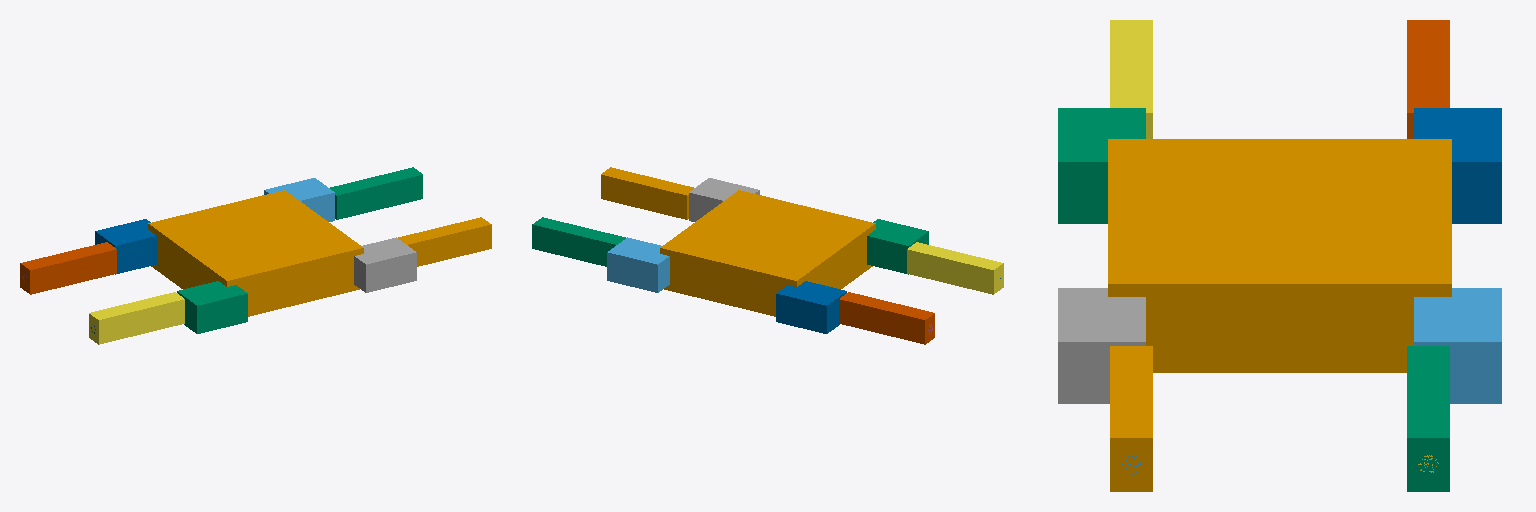
--- What the picture shows (computed from the rendered views, not written in the file) ---
Views: 3 orthographic renders of the robot side by side, from view 1: azimuth 30°, elevation 25°; view 2: azimuth 150°, elevation 25°; view 3: azimuth 270°, elevation 25°.
Robot: ASTRo — 13 links, 12 joints (12 revolute); root link body; default pose: all joints at 0.
Visible links, largest first — view 1: body, upper1, upper3, upper0, hip3, upper2, hip2, hip1, hip0; view 2: body, upper3, upper1, upper2, hip1, upper0, hip0, hip3, hip2; view 3: body, hip0, hip2, hip1, hip3, upper0, upper2, upper1, upper3.
Boxes of the visible links, bbox=[...] form: body: bbox=[148, 190, 363, 316]; upper1: bbox=[20, 242, 116, 294]; upper3: bbox=[89, 292, 184, 344]; upper0: bbox=[330, 167, 422, 219]; hip3: bbox=[177, 281, 247, 333]; upper2: bbox=[398, 217, 491, 266]; hip2: bbox=[354, 237, 416, 292]; hip1: bbox=[95, 219, 156, 274]; hip0: bbox=[264, 178, 334, 221]; body: bbox=[660, 190, 875, 316]; upper3: bbox=[907, 242, 1003, 294]; upper1: bbox=[839, 292, 934, 344]; upper2: bbox=[601, 167, 693, 219]; hip1: bbox=[776, 281, 846, 333]; upper0: bbox=[532, 217, 625, 266]; hip0: bbox=[607, 237, 669, 292]; hip3: bbox=[867, 219, 928, 274]; hip2: bbox=[689, 178, 759, 221]; body: bbox=[1108, 139, 1451, 372]; hip0: bbox=[1414, 288, 1501, 403]; hip2: bbox=[1058, 288, 1145, 403]; hip1: bbox=[1414, 108, 1501, 223]; hip3: bbox=[1058, 108, 1145, 223]; upper0: bbox=[1407, 346, 1449, 491]; upper2: bbox=[1110, 346, 1152, 491]; upper1: bbox=[1407, 20, 1449, 138]; upper3: bbox=[1110, 20, 1152, 138].
Size in the robot's own frame: 1.01 by 0.4524 by 0.1 metres.
Geometry: primitives only (box / cylinder / sphere), no mesh files.

The robot description file, URDF, robot "ASTRo":
<?xml version="1.0" ?>
<!-- =================================================================================== -->
<!-- |    This document was autogenerated by xacro from src/simulator/ASTRo_urdf/ASTRo_xacro/ASTRo.urdf.xacro | -->
<!-- |    EDITING THIS FILE BY HAND IS NOT RECOMMENDED                                 | -->
<!-- =================================================================================== -->
<!-- 
MIT License (modified)
Copyright (c) 2018 Ghost Robotics
Authors:
Avik De <[email redacted]>
Tom Jacobs <[email redacted]>
Vasileios Vasilopoulos <[email redacted]>
Permission is hereby granted, free of charge, to any person obtaining a copy
of this **file** (the "Software"), to deal
in the Software without restriction, including without limitation the rights
to use, copy, modify, merge, publish, distribute, sublicense, and/or sell
copies of the Software, and to permit persons to whom the Software is
furnished to do so, subject to the following conditions:
The above copyright notice and this permission notice shall be included in all
copies or substantial portions of the Software.
THE SOFTWARE IS PROVIDED "AS IS", WITHOUT WARRANTY OF ANY KIND, EXPRESS OR
IMPLIED, INCLUDING BUT NOT LIMITED TO THE WARRANTIES OF MERCHANTABILITY,
FITNESS FOR A PARTICULAR PURPOSE AND NONINFRINGEMENT. IN NO EVENT SHALL THE
AUTHORS OR COPYRIGHT HOLDERS BE LIABLE FOR ANY CLAIM, DAMAGES OR OTHER
LIABILITY, WHETHER IN AN ACTION OF CONTRACT, TORT OR OTHERWISE, ARISING FROM,
OUT OF OR IN CONNECTION WITH THE SOFTWARE OR THE USE OR OTHER DEALINGS IN THE
SOFTWARE. 
-->
<robot name="ASTRo">
  <!-- Body -->
  <link name="body">
    <visual>
      <origin rpy="0 0 0" xyz="0 0 0"/>
      <geometry>
        <box size="0.35 0.35 0.1"/>
      </geometry>
    </visual>
    <inertial>
      <mass value="10.1"/>
      <!-- Uniform box -->
      <inertia ixx="0.141" ixy="0" ixz="0" iyy="0.143" iyz="0" izz="0.254"/>
    </inertial>
    <!-- Just copy geometry for collision -->
    <collision>
      <geometry>
        <box size="0.35 0.35 0.1"/>
      </geometry>
    </collision>
  </link>
  <gazebo reference="body">
    <material>Gazebo/BlackTransparent</material>
  </gazebo>
  <!-- red new legs -->
  <!-- TODO: clean this, it should be part of main leg macro -->
  <!-- Hip motor -->
  <link name="hip0">
    <visual>
      <origin rpy="0 0 0" xyz="0.065 0.03 0"/>
      <geometry>
        <box size="0.13 0.09 0.07"/>
      </geometry>
    </visual>
    <collision>
      <origin rpy="0 0 0" xyz="0.065 0.03 0"/>
      <geometry>
        <box size="0.13 0.09 0.07"/>
      </geometry>
    </collision>
    <inertial>
      <mass value="1.18"/>
      <inertia ixx="0.0299" ixy="0" ixz="0" iyy="0.0333" iyz="0" izz="0.0046"/>
    </inertial>
  </link>
  <gazebo reference="hip0">
    <material>Gazebo/Purple</material>
  </gazebo>
  <!-- Abduction joint. Joint names are: 8 9 10 11 -->
  <joint name="8" type="revolute">
    <parent link="body"/>
    <child link="hip0"/>
    <axis xyz="0 0 1"/>
    <origin rpy="0 0 0.0" xyz="0.15121 0.15121 0"/>
    <limit effort="375" lower="-0.39269908169872414" upper="1.5707963267948966" velocity="8.6"/>
    <dynamics damping="0.0" friction="0.0"/>
  </joint>
  <!-- Transmission elements required for Gazebo -->
  <transmission name="transmission_8">
    <type>transmission_interface/SimpleTransmission</type>
    <joint name="8">
      <hardwareInterface>hardware_interface/EffortJointInterface</hardwareInterface>
    </joint>
    <actuator name="motor_8">
      <hardwareInterface>EffortJointInterface</hardwareInterface>
      <mechanicalReduction>1</mechanicalReduction>
    </actuator>
  </transmission>
  <!-- Upper leg -->
  <link name="upper0">
    <visual>
      <origin rpy="0 0 0" xyz="0.111 -0.03 0"/>
      <geometry>
        <box size="0.222 0.044 0.06"/>
      </geometry>
    </visual>
    <collision>
      <origin rpy="0 0 0" xyz="0.111 -0.03 0"/>
      <geometry>
        <box size="0.222 0.044 0.06"/>
      </geometry>
    </collision>
    <inertial>
      <mass value="1.39"/>
      <inertia ixx="0.0017" ixy="0" ixz="0" iyy="0.0066" iyz="0" izz="0.0064"/>
    </inertial>
  </link>
  <gazebo reference="upper0">
    <material>Gazebo/Blue</material>
  </gazebo>
  <!-- Hip joint. (Motor to upper leg). Joint names are: 0 2 4 6 -->
  <joint name="0" type="revolute">
    <parent link="hip0"/>
    <child link="upper0"/>
    <axis xyz="0 1 0"/>
    <origin xyz="0.13 0.03 0"/>
    <!--  rpy="0 -0.3 0" -->
    <limit effort="87.5" lower="-1.5707963267948966" upper="2.356194490192345" velocity="30"/>
    <dynamics damping="0.0" friction="0.0"/>
  </joint>
  <!-- Transmission elements required for Gazebo -->
  <transmission name="transmission_0">
    <type>transmission_interface/SimpleTransmission</type>
    <joint name="0">
      <hardwareInterface>hardware_interface/EffortJointInterface</hardwareInterface>
    </joint>
    <actuator name="motor_0">
      <hardwareInterface>EffortJointInterface</hardwareInterface>
      <mechanicalReduction>1</mechanicalReduction>
    </actuator>
  </transmission>
  <!-- Lower leg -->
  <link name="lower0">
    <visual>
      <origin rpy="0 1.5707963267948966 0" xyz="-0.135 0 0"/>
      <geometry>
        <cylinder length="0.27" radius="0.011"/>
      </geometry>
    </visual>
    <collision>
      <origin rpy="0 1.5707963267948966 0" xyz="-0.135 0 -0.0"/>
      <geometry>
        <cylinder length="0.27" radius="0.011"/>
      </geometry>
    </collision>
    <inertial>
      <mass value="0.28"/>
      <inertia ixx="0.0665" ixy="0" ixz="0" iyy="0.0032" iyz="0" izz="0.0032"/>
    </inertial>
  </link>
  <gazebo reference="lower0">
    <material>Gazebo/Black</material>
  </gazebo>
  <!-- Knee joint. Joint names are: 1 3 5 7 -->
  <joint name="1" type="revolute">
    <parent link="upper0"/>
    <child link="lower0"/>
    <axis xyz="0 -1 0"/>
    <origin xyz="0.222 -0.03 0"/>
    <!--rpy="0 0.5 0"-->
    <limit effort="87.5" lower="0" upper="3.141592653589793" velocity="30"/>
    <dynamics damping="0.0" friction="0.0"/>
  </joint>
  <!-- Transmission elements required for Gazebo -->
  <transmission name="transmission_1">
    <type>transmission_interface/SimpleTransmission</type>
    <joint name="1">
      <hardwareInterface>hardware_interface/EffortJointInterface</hardwareInterface>
    </joint>
    <actuator name="motor_1">
      <hardwareInterface>EffortJointInterface</hardwareInterface>
      <mechanicalReduction>1</mechanicalReduction>
    </actuator>
  </transmission>
  <!-- Toe 
		<link name="toe${suffix}">
			<visual>
				<origin rpy="0 0 0" xyz="0 0 0"/>
				<geometry>
					<sphere radius="${toeRadius}"/>
				</geometry>
			</visual>
			
			<collision>
				<origin rpy="0 0 0" xyz="0 0 0"/>
				<geometry>
					<sphere radius="${toeRadius}"/>
				</geometry>
			</collision>

			<inertial>
				<mass value="${toeMass}"/>
				<inertia ixx="0.000025"  ixy="0"  ixz="0" iyy="0.000025" iyz="0" izz="0.000025" />
			</inertial>
		</link>
		<gazebo reference="toe${suffix}">
    		<material>Gazebo/DarkGray</material>
			<collision>
				<surface>
					<bounce>
						<restitution_coefficient>0</restitution_coefficient>
						<threshold>1e+06</threshold>
					</bounce>
					<friction>
						<torsional>
							<coefficient>${toeSpinningFriction}</coefficient>
						</torsional>
						<ode>
							<mu>${toeFriction}</mu>
							<mu2>${toeLateralFriction}</mu2>
						</ode>
						<bullet>
							<rolling_friction>${toeSpinningFriction}</rolling_friction>
							<friction2>${toeLateralFriction}</friction2>
						</bullet>
					</friction>
					<contact>
						<bullet>
							<kp>${toeStiffness}</kp>
							<kd>${toeDamping}</kd>
						</bullet>
						<ode>
							<kp>${toeStiffness}</kp>
							<kd>${toeDamping}</kd>
						</ode>
					</contact>
				</surface>
			</collision>
  		</gazebo>
		
		<joint name="jtoe${suffix}" type="fixed">
			<parent link="lower${suffix}"/>
			<child link="toe${suffix}"/>
			<origin xyz="${lowerLegLength} 0 -${lowerLegAttachLinkLength + toeOffset}"/>
			<dynamics damping="0.0" friction="0.0"/>
		</joint>
-->
  <!-- Hip motor -->
  <link name="hip1">
    <visual>
      <origin rpy="0 0 0" xyz="0.065 -0.03 0"/>
      <geometry>
        <box size="0.13 0.09 0.07"/>
      </geometry>
    </visual>
    <collision>
      <origin rpy="0 0 0" xyz="0.065 -0.03 0"/>
      <geometry>
        <box size="0.13 0.09 0.07"/>
      </geometry>
    </collision>
    <inertial>
      <mass value="1.18"/>
      <inertia ixx="0.0299" ixy="0" ixz="0" iyy="0.0333" iyz="0" izz="0.0046"/>
    </inertial>
  </link>
  <gazebo reference="hip1">
    <material>Gazebo/Purple</material>
  </gazebo>
  <!-- Abduction joint. Joint names are: 8 9 10 11 -->
  <joint name="9" type="revolute">
    <parent link="body"/>
    <child link="hip1"/>
    <axis xyz="0 0 1"/>
    <origin rpy="0 0 3.141592653589793" xyz="-0.15121 0.15121 0"/>
    <limit effort="375" lower="-1.5707963267948966" upper="0.39269908169872414" velocity="8.6"/>
    <dynamics damping="0.0" friction="0.0"/>
  </joint>
  <!-- Transmission elements required for Gazebo -->
  <transmission name="transmission_9">
    <type>transmission_interface/SimpleTransmission</type>
    <joint name="9">
      <hardwareInterface>hardware_interface/EffortJointInterface</hardwareInterface>
    </joint>
    <actuator name="motor_9">
      <hardwareInterface>EffortJointInterface</hardwareInterface>
      <mechanicalReduction>1</mechanicalReduction>
    </actuator>
  </transmission>
  <!-- Upper leg -->
  <link name="upper1">
    <visual>
      <origin rpy="0 0 0" xyz="0.111 0.03 0"/>
      <geometry>
        <box size="0.222 0.044 0.06"/>
      </geometry>
    </visual>
    <collision>
      <origin rpy="0 0 0" xyz="0.111 0.03 0"/>
      <geometry>
        <box size="0.222 0.044 0.06"/>
      </geometry>
    </collision>
    <inertial>
      <mass value="1.39"/>
      <inertia ixx="0.0017" ixy="0" ixz="0" iyy="0.0066" iyz="0" izz="0.0064"/>
    </inertial>
  </link>
  <gazebo reference="upper1">
    <material>Gazebo/Blue</material>
  </gazebo>
  <!-- Hip joint. (Motor to upper leg). Joint names are: 0 2 4 6 -->
  <joint name="2" type="revolute">
    <parent link="hip1"/>
    <child link="upper1"/>
    <axis xyz="0 1 0"/>
    <origin xyz="0.13 -0.03 0"/>
    <!--  rpy="0 -0.3 0" -->
    <limit effort="87.5" lower="-1.5707963267948966" upper="2.356194490192345" velocity="30"/>
    <dynamics damping="0.0" friction="0.0"/>
  </joint>
  <!-- Transmission elements required for Gazebo -->
  <transmission name="transmission_2">
    <type>transmission_interface/SimpleTransmission</type>
    <joint name="2">
      <hardwareInterface>hardware_interface/EffortJointInterface</hardwareInterface>
    </joint>
    <actuator name="motor_2">
      <hardwareInterface>EffortJointInterface</hardwareInterface>
      <mechanicalReduction>1</mechanicalReduction>
    </actuator>
  </transmission>
  <!-- Lower leg -->
  <link name="lower1">
    <visual>
      <origin rpy="0 1.5707963267948966 0" xyz="-0.135 0 0"/>
      <geometry>
        <cylinder length="0.27" radius="0.011"/>
      </geometry>
    </visual>
    <collision>
      <origin rpy="0 1.5707963267948966 0" xyz="-0.135 0 -0.0"/>
      <geometry>
        <cylinder length="0.27" radius="0.011"/>
      </geometry>
    </collision>
    <inertial>
      <mass value="0.28"/>
      <inertia ixx="0.0665" ixy="0" ixz="0" iyy="0.0032" iyz="0" izz="0.0032"/>
    </inertial>
  </link>
  <gazebo reference="lower1">
    <material>Gazebo/Black</material>
  </gazebo>
  <!-- Knee joint. Joint names are: 1 3 5 7 -->
  <joint name="3" type="revolute">
    <parent link="upper1"/>
    <child link="lower1"/>
    <axis xyz="0 -1 0"/>
    <origin xyz="0.222 0.03 0"/>
    <!--rpy="0 0.5 0"-->
    <limit effort="87.5" lower="0" upper="3.141592653589793" velocity="30"/>
    <dynamics damping="0.0" friction="0.0"/>
  </joint>
  <!-- Transmission elements required for Gazebo -->
  <transmission name="transmission_3">
    <type>transmission_interface/SimpleTransmission</type>
    <joint name="3">
      <hardwareInterface>hardware_interface/EffortJointInterface</hardwareInterface>
    </joint>
    <actuator name="motor_3">
      <hardwareInterface>EffortJointInterface</hardwareInterface>
      <mechanicalReduction>1</mechanicalReduction>
    </actuator>
  </transmission>
  <!-- Toe 
		<link name="toe${suffix}">
			<visual>
				<origin rpy="0 0 0" xyz="0 0 0"/>
				<geometry>
					<sphere radius="${toeRadius}"/>
				</geometry>
			</visual>
			
			<collision>
				<origin rpy="0 0 0" xyz="0 0 0"/>
				<geometry>
					<sphere radius="${toeRadius}"/>
				</geometry>
			</collision>

			<inertial>
				<mass value="${toeMass}"/>
				<inertia ixx="0.000025"  ixy="0"  ixz="0" iyy="0.000025" iyz="0" izz="0.000025" />
			</inertial>
		</link>
		<gazebo reference="toe${suffix}">
    		<material>Gazebo/DarkGray</material>
			<collision>
				<surface>
					<bounce>
						<restitution_coefficient>0</restitution_coefficient>
						<threshold>1e+06</threshold>
					</bounce>
					<friction>
						<torsional>
							<coefficient>${toeSpinningFriction}</coefficient>
						</torsional>
						<ode>
							<mu>${toeFriction}</mu>
							<mu2>${toeLateralFriction}</mu2>
						</ode>
						<bullet>
							<rolling_friction>${toeSpinningFriction}</rolling_friction>
							<friction2>${toeLateralFriction}</friction2>
						</bullet>
					</friction>
					<contact>
						<bullet>
							<kp>${toeStiffness}</kp>
							<kd>${toeDamping}</kd>
						</bullet>
						<ode>
							<kp>${toeStiffness}</kp>
							<kd>${toeDamping}</kd>
						</ode>
					</contact>
				</surface>
			</collision>
  		</gazebo>
		
		<joint name="jtoe${suffix}" type="fixed">
			<parent link="lower${suffix}"/>
			<child link="toe${suffix}"/>
			<origin xyz="${lowerLegLength} 0 -${lowerLegAttachLinkLength + toeOffset}"/>
			<dynamics damping="0.0" friction="0.0"/>
		</joint>
-->
  <!-- Hip motor -->
  <link name="hip2">
    <visual>
      <origin rpy="0 0 0" xyz="0.065 -0.03 0"/>
      <geometry>
        <box size="0.13 0.09 0.07"/>
      </geometry>
    </visual>
    <collision>
      <origin rpy="0 0 0" xyz="0.065 -0.03 0"/>
      <geometry>
        <box size="0.13 0.09 0.07"/>
      </geometry>
    </collision>
    <inertial>
      <mass value="1.18"/>
      <inertia ixx="0.0299" ixy="0" ixz="0" iyy="0.0333" iyz="0" izz="0.0046"/>
    </inertial>
  </link>
  <gazebo reference="hip2">
    <material>Gazebo/Purple</material>
  </gazebo>
  <!-- Abduction joint. Joint names are: 8 9 10 11 -->
  <joint name="10" type="revolute">
    <parent link="body"/>
    <child link="hip2"/>
    <axis xyz="0 0 1"/>
    <origin rpy="0 0 0.0" xyz="0.15121 -0.15121 0"/>
    <limit effort="375" lower="-1.5707963267948966" upper="0.39269908169872414" velocity="8.6"/>
    <dynamics damping="0.0" friction="0.0"/>
  </joint>
  <!-- Transmission elements required for Gazebo -->
  <transmission name="transmission_10">
    <type>transmission_interface/SimpleTransmission</type>
    <joint name="10">
      <hardwareInterface>hardware_interface/EffortJointInterface</hardwareInterface>
    </joint>
    <actuator name="motor_10">
      <hardwareInterface>EffortJointInterface</hardwareInterface>
      <mechanicalReduction>1</mechanicalReduction>
    </actuator>
  </transmission>
  <!-- Upper leg -->
  <link name="upper2">
    <visual>
      <origin rpy="0 0 0" xyz="0.111 0.03 0"/>
      <geometry>
        <box size="0.222 0.044 0.06"/>
      </geometry>
    </visual>
    <collision>
      <origin rpy="0 0 0" xyz="0.111 0.03 0"/>
      <geometry>
        <box size="0.222 0.044 0.06"/>
      </geometry>
    </collision>
    <inertial>
      <mass value="1.39"/>
      <inertia ixx="0.0017" ixy="0" ixz="0" iyy="0.0066" iyz="0" izz="0.0064"/>
    </inertial>
  </link>
  <gazebo reference="upper2">
    <material>Gazebo/Blue</material>
  </gazebo>
  <!-- Hip joint. (Motor to upper leg). Joint names are: 0 2 4 6 -->
  <joint name="4" type="revolute">
    <parent link="hip2"/>
    <child link="upper2"/>
    <axis xyz="0 1 0"/>
    <origin xyz="0.13 -0.03 0"/>
    <!--  rpy="0 -0.3 0" -->
    <limit effort="87.5" lower="-1.5707963267948966" upper="2.356194490192345" velocity="30"/>
    <dynamics damping="0.0" friction="0.0"/>
  </joint>
  <!-- Transmission elements required for Gazebo -->
  <transmission name="transmission_4">
    <type>transmission_interface/SimpleTransmission</type>
    <joint name="4">
      <hardwareInterface>hardware_interface/EffortJointInterface</hardwareInterface>
    </joint>
    <actuator name="motor_4">
      <hardwareInterface>EffortJointInterface</hardwareInterface>
      <mechanicalReduction>1</mechanicalReduction>
    </actuator>
  </transmission>
  <!-- Lower leg -->
  <link name="lower2">
    <visual>
      <origin rpy="0 1.5707963267948966 0" xyz="-0.135 0 0"/>
      <geometry>
        <cylinder length="0.27" radius="0.011"/>
      </geometry>
    </visual>
    <collision>
      <origin rpy="0 1.5707963267948966 0" xyz="-0.135 0 -0.0"/>
      <geometry>
        <cylinder length="0.27" radius="0.011"/>
      </geometry>
    </collision>
    <inertial>
      <mass value="0.28"/>
      <inertia ixx="0.0665" ixy="0" ixz="0" iyy="0.0032" iyz="0" izz="0.0032"/>
    </inertial>
  </link>
  <gazebo reference="lower2">
    <material>Gazebo/Black</material>
  </gazebo>
  <!-- Knee joint. Joint names are: 1 3 5 7 -->
  <joint name="5" type="revolute">
    <parent link="upper2"/>
    <child link="lower2"/>
    <axis xyz="0 -1 0"/>
    <origin xyz="0.222 0.03 0"/>
    <!--rpy="0 0.5 0"-->
    <limit effort="87.5" lower="0" upper="3.141592653589793" velocity="30"/>
    <dynamics damping="0.0" friction="0.0"/>
  </joint>
  <!-- Transmission elements required for Gazebo -->
  <transmission name="transmission_5">
    <type>transmission_interface/SimpleTransmission</type>
    <joint name="5">
      <hardwareInterface>hardware_interface/EffortJointInterface</hardwareInterface>
    </joint>
    <actuator name="motor_5">
      <hardwareInterface>EffortJointInterface</hardwareInterface>
      <mechanicalReduction>1</mechanicalReduction>
    </actuator>
  </transmission>
  <!-- Toe 
		<link name="toe${suffix}">
			<visual>
				<origin rpy="0 0 0" xyz="0 0 0"/>
				<geometry>
					<sphere radius="${toeRadius}"/>
				</geometry>
			</visual>
			
			<collision>
				<origin rpy="0 0 0" xyz="0 0 0"/>
				<geometry>
					<sphere radius="${toeRadius}"/>
				</geometry>
			</collision>

			<inertial>
				<mass value="${toeMass}"/>
				<inertia ixx="0.000025"  ixy="0"  ixz="0" iyy="0.000025" iyz="0" izz="0.000025" />
			</inertial>
		</link>
		<gazebo reference="toe${suffix}">
    		<material>Gazebo/DarkGray</material>
			<collision>
				<surface>
					<bounce>
						<restitution_coefficient>0</restitution_coefficient>
						<threshold>1e+06</threshold>
					</bounce>
					<friction>
						<torsional>
							<coefficient>${toeSpinningFriction}</coefficient>
						</torsional>
						<ode>
							<mu>${toeFriction}</mu>
							<mu2>${toeLateralFriction}</mu2>
						</ode>
						<bullet>
							<rolling_friction>${toeSpinningFriction}</rolling_friction>
							<friction2>${toeLateralFriction}</friction2>
						</bullet>
					</friction>
					<contact>
						<bullet>
							<kp>${toeStiffness}</kp>
							<kd>${toeDamping}</kd>
						</bullet>
						<ode>
							<kp>${toeStiffness}</kp>
							<kd>${toeDamping}</kd>
						</ode>
					</contact>
				</surface>
			</collision>
  		</gazebo>
		
		<joint name="jtoe${suffix}" type="fixed">
			<parent link="lower${suffix}"/>
			<child link="toe${suffix}"/>
			<origin xyz="${lowerLegLength} 0 -${lowerLegAttachLinkLength + toeOffset}"/>
			<dynamics damping="0.0" friction="0.0"/>
		</joint>
-->
  <!-- Hip motor -->
  <link name="hip3">
    <visual>
      <origin rpy="0 0 0" xyz="0.065 0.03 0"/>
      <geometry>
        <box size="0.13 0.09 0.07"/>
      </geometry>
    </visual>
    <collision>
      <origin rpy="0 0 0" xyz="0.065 0.03 0"/>
      <geometry>
        <box size="0.13 0.09 0.07"/>
      </geometry>
    </collision>
    <inertial>
      <mass value="1.18"/>
      <inertia ixx="0.0299" ixy="0" ixz="0" iyy="0.0333" iyz="0" izz="0.0046"/>
    </inertial>
  </link>
  <gazebo reference="hip3">
    <material>Gazebo/Purple</material>
  </gazebo>
  <!-- Abduction joint. Joint names are: 8 9 10 11 -->
  <joint name="11" type="revolute">
    <parent link="body"/>
    <child link="hip3"/>
    <axis xyz="0 0 1"/>
    <origin rpy="0 0 3.141592653589793" xyz="-0.15121 -0.15121 0"/>
    <limit effort="375" lower="-0.39269908169872414" upper="1.5707963267948966" velocity="8.6"/>
    <dynamics damping="0.0" friction="0.0"/>
  </joint>
  <!-- Transmission elements required for Gazebo -->
  <transmission name="transmission_11">
    <type>transmission_interface/SimpleTransmission</type>
    <joint name="11">
      <hardwareInterface>hardware_interface/EffortJointInterface</hardwareInterface>
    </joint>
    <actuator name="motor_11">
      <hardwareInterface>EffortJointInterface</hardwareInterface>
      <mechanicalReduction>1</mechanicalReduction>
    </actuator>
  </transmission>
  <!-- Upper leg -->
  <link name="upper3">
    <visual>
      <origin rpy="0 0 0" xyz="0.111 -0.03 0"/>
      <geometry>
        <box size="0.222 0.044 0.06"/>
      </geometry>
    </visual>
    <collision>
      <origin rpy="0 0 0" xyz="0.111 -0.03 0"/>
      <geometry>
        <box size="0.222 0.044 0.06"/>
      </geometry>
    </collision>
    <inertial>
      <mass value="1.39"/>
      <inertia ixx="0.0017" ixy="0" ixz="0" iyy="0.0066" iyz="0" izz="0.0064"/>
    </inertial>
  </link>
  <gazebo reference="upper3">
    <material>Gazebo/Blue</material>
  </gazebo>
  <!-- Hip joint. (Motor to upper leg). Joint names are: 0 2 4 6 -->
  <joint name="6" type="revolute">
    <parent link="hip3"/>
    <child link="upper3"/>
    <axis xyz="0 1 0"/>
    <origin xyz="0.13 0.03 0"/>
    <!--  rpy="0 -0.3 0" -->
    <limit effort="87.5" lower="-1.5707963267948966" upper="2.356194490192345" velocity="30"/>
    <dynamics damping="0.0" friction="0.0"/>
  </joint>
  <!-- Transmission elements required for Gazebo -->
  <transmission name="transmission_6">
    <type>transmission_interface/SimpleTransmission</type>
    <joint name="6">
      <hardwareInterface>hardware_interface/EffortJointInterface</hardwareInterface>
    </joint>
    <actuator name="motor_6">
      <hardwareInterface>EffortJointInterface</hardwareInterface>
      <mechanicalReduction>1</mechanicalReduction>
    </actuator>
  </transmission>
  <!-- Lower leg -->
  <link name="lower3">
    <visual>
      <origin rpy="0 1.5707963267948966 0" xyz="-0.135 0 0"/>
      <geometry>
        <cylinder length="0.27" radius="0.011"/>
      </geometry>
    </visual>
    <collision>
      <origin rpy="0 1.5707963267948966 0" xyz="-0.135 0 -0.0"/>
      <geometry>
        <cylinder length="0.27" radius="0.011"/>
      </geometry>
    </collision>
    <inertial>
      <mass value="0.28"/>
      <inertia ixx="0.0665" ixy="0" ixz="0" iyy="0.0032" iyz="0" izz="0.0032"/>
    </inertial>
  </link>
  <gazebo reference="lower3">
    <material>Gazebo/Black</material>
  </gazebo>
  <!-- Knee joint. Joint names are: 1 3 5 7 -->
  <joint name="7" type="revolute">
    <parent link="upper3"/>
    <child link="lower3"/>
    <axis xyz="0 -1 0"/>
    <origin xyz="0.222 -0.03 0"/>
    <!--rpy="0 0.5 0"-->
    <limit effort="87.5" lower="0" upper="3.141592653589793" velocity="30"/>
    <dynamics damping="0.0" friction="0.0"/>
  </joint>
  <!-- Transmission elements required for Gazebo -->
  <transmission name="transmission_7">
    <type>transmission_interface/SimpleTransmission</type>
    <joint name="7">
      <hardwareInterface>hardware_interface/EffortJointInterface</hardwareInterface>
    </joint>
    <actuator name="motor_7">
      <hardwareInterface>EffortJointInterface</hardwareInterface>
      <mechanicalReduction>1</mechanicalReduction>
    </actuator>
  </transmission>
  <!-- Toe 
		<link name="toe${suffix}">
			<visual>
				<origin rpy="0 0 0" xyz="0 0 0"/>
				<geometry>
					<sphere radius="${toeRadius}"/>
				</geometry>
			</visual>
			
			<collision>
				<origin rpy="0 0 0" xyz="0 0 0"/>
				<geometry>
					<sphere radius="${toeRadius}"/>
				</geometry>
			</collision>

			<inertial>
				<mass value="${toeMass}"/>
				<inertia ixx="0.000025"  ixy="0"  ixz="0" iyy="0.000025" iyz="0" izz="0.000025" />
			</inertial>
		</link>
		<gazebo reference="toe${suffix}">
    		<material>Gazebo/DarkGray</material>
			<collision>
				<surface>
					<bounce>
						<restitution_coefficient>0</restitution_coefficient>
						<threshold>1e+06</threshold>
					</bounce>
					<friction>
						<torsional>
							<coefficient>${toeSpinningFriction}</coefficient>
						</torsional>
						<ode>
							<mu>${toeFriction}</mu>
							<mu2>${toeLateralFriction}</mu2>
						</ode>
						<bullet>
							<rolling_friction>${toeSpinningFriction}</rolling_friction>
							<friction2>${toeLateralFriction}</friction2>
						</bullet>
					</friction>
					<contact>
						<bullet>
							<kp>${toeStiffness}</kp>
							<kd>${toeDamping}</kd>
						</bullet>
						<ode>
							<kp>${toeStiffness}</kp>
							<kd>${toeDamping}</kd>
						</ode>
					</contact>
				</surface>
			</collision>
  		</gazebo>
		
		<joint name="jtoe${suffix}" type="fixed">
			<parent link="lower${suffix}"/>
			<child link="toe${suffix}"/>
			<origin xyz="${lowerLegLength} 0 -${lowerLegAttachLinkLength + toeOffset}"/>
			<dynamics damping="0.0" friction="0.0"/>
		</joint>
-->
  <!-- Add ros_control plugin -->
  <gazebo>
    <plugin filename="libgazebo_ros_control.so" name="gazebo_ros_control">
      <robotNamespace>/ASTRo</robotNamespace>
    </plugin>
  </gazebo>
</robot>
